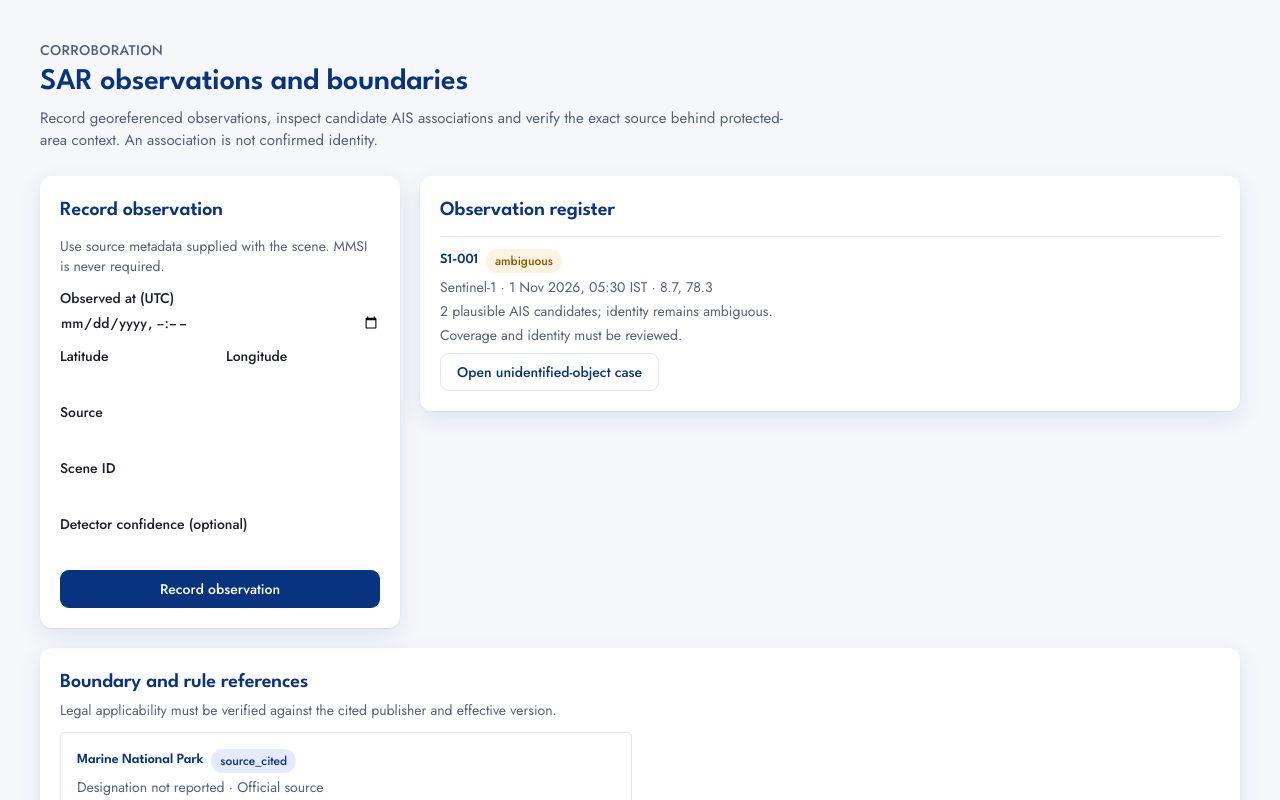
v1 intelligence surfaces › keeps ambiguous SAR identity explicit and opens an unidentified-object case
The image size is (1280, 800).
expect the heading "S1-001" is shown: met, box [440,250,478,271]
expect the text "2 plausible AIS candidates; identity remains ambiguous." is shown: met, box [440,300,773,320]
Click the button "Open unidentified-object case".
click(550, 372)  # box [440,352,659,390]
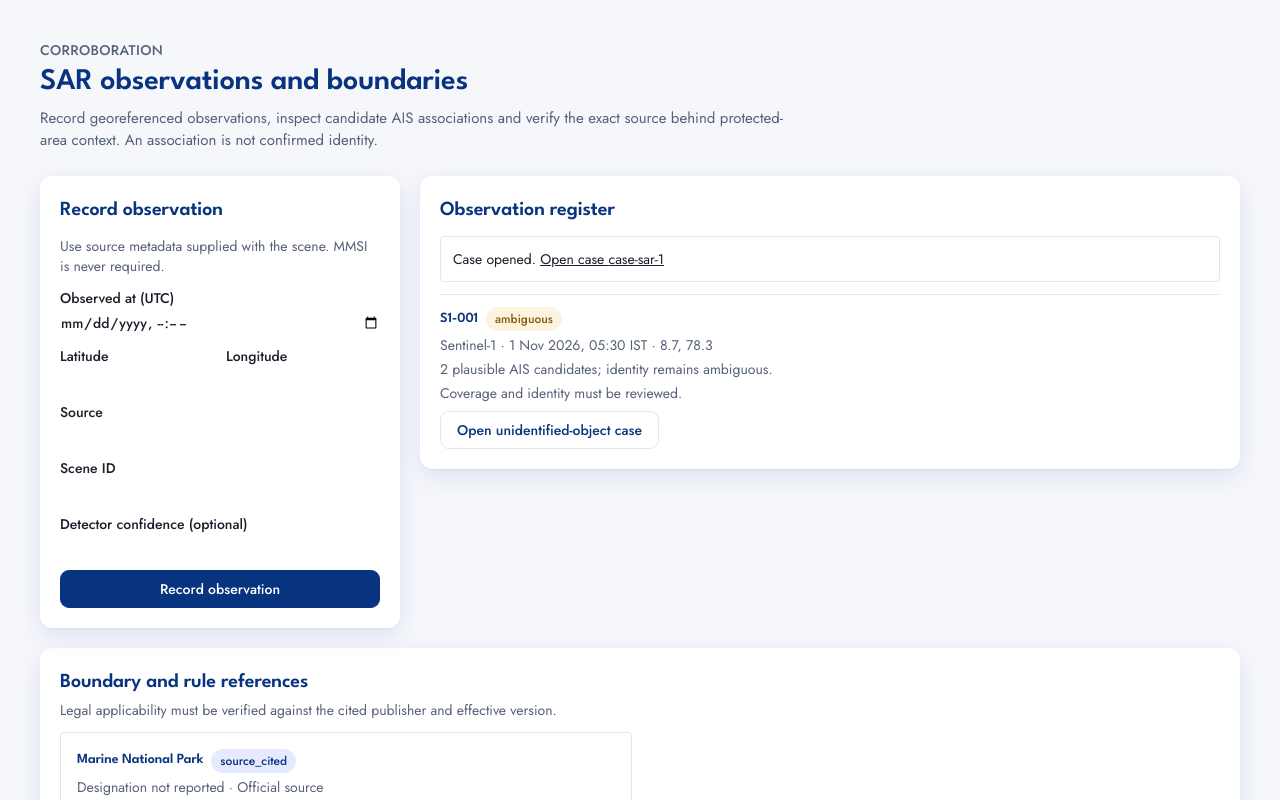
expect the link "Open case case-sar-1" is shown: met, box [540,248,664,268]
